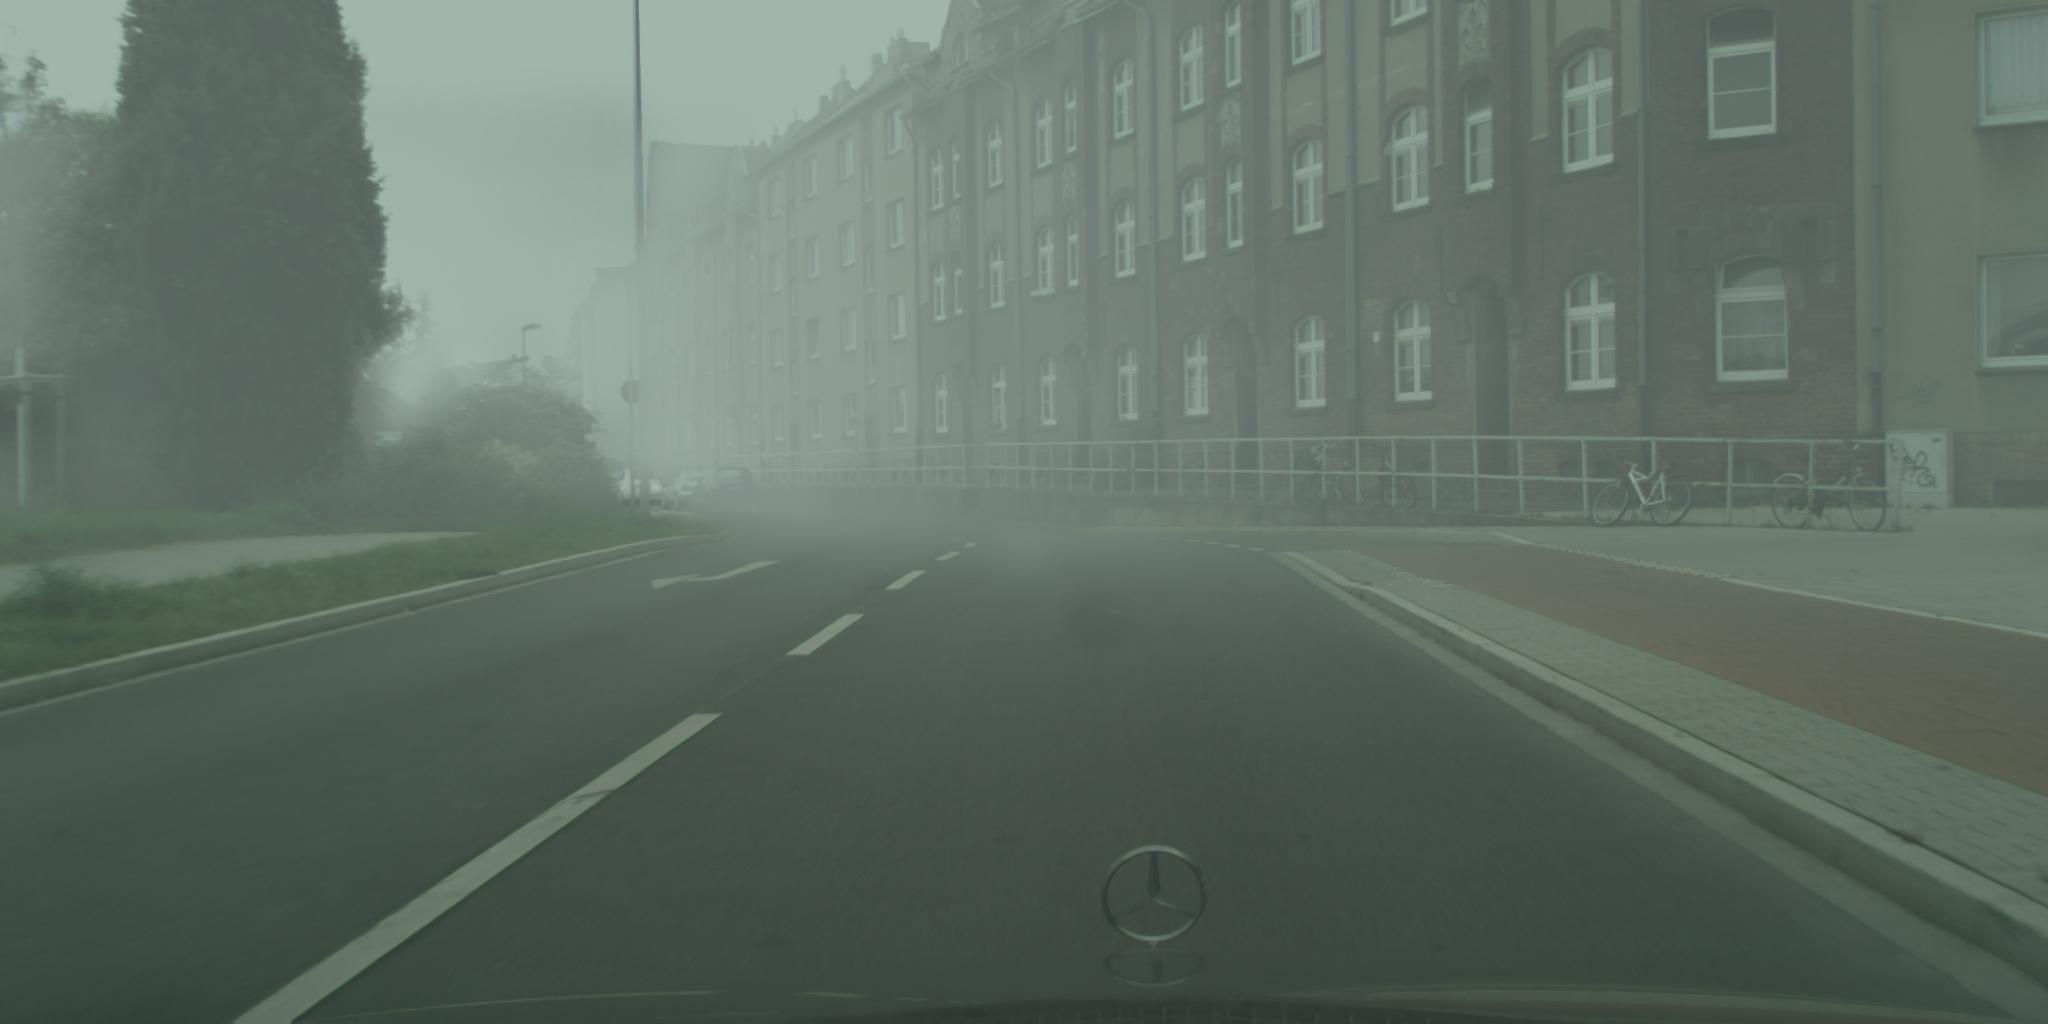bicycle: (1588, 453, 1694, 528)
car: (692, 468, 759, 515), (661, 472, 714, 512), (613, 470, 667, 509)
